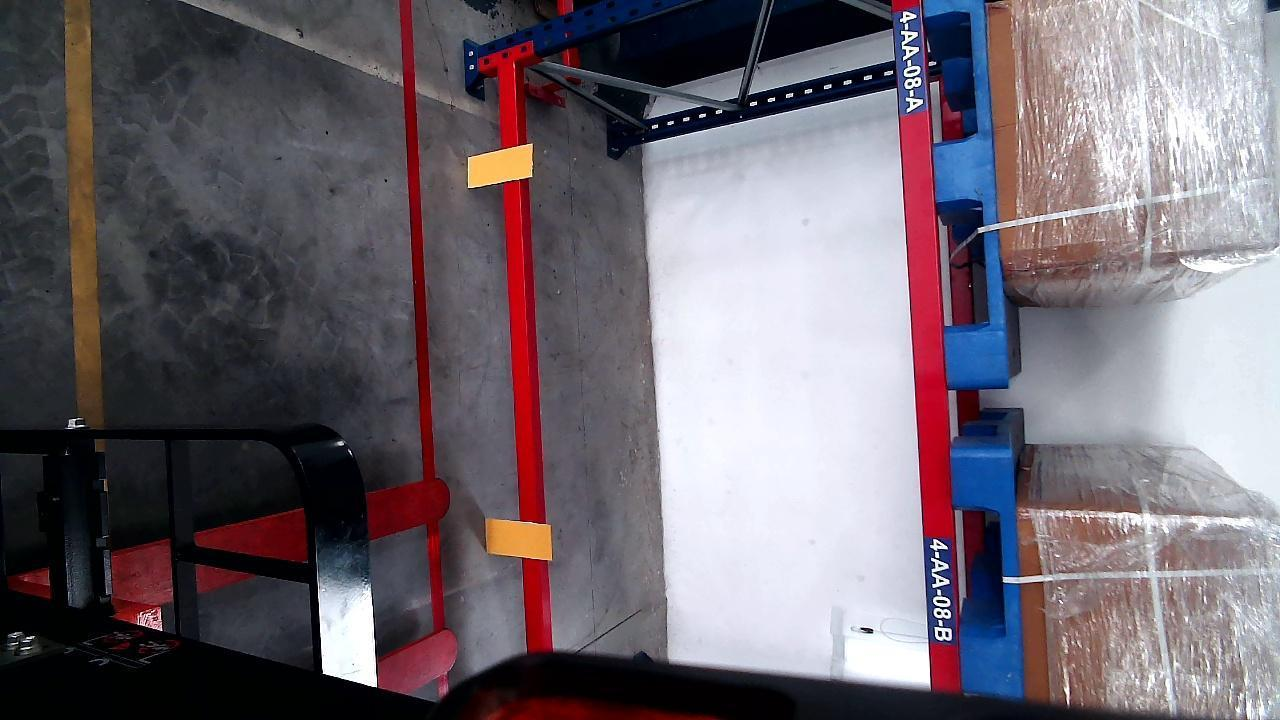h_rack: (893, 4, 957, 691), (500, 58, 553, 668)
orange_strip: (484, 518, 552, 560), (467, 144, 533, 187)
red_line: (397, 3, 448, 631)
small_pallet: (927, 0, 1013, 382), (955, 449, 1021, 698)
yellow_line: (66, 0, 102, 425)
